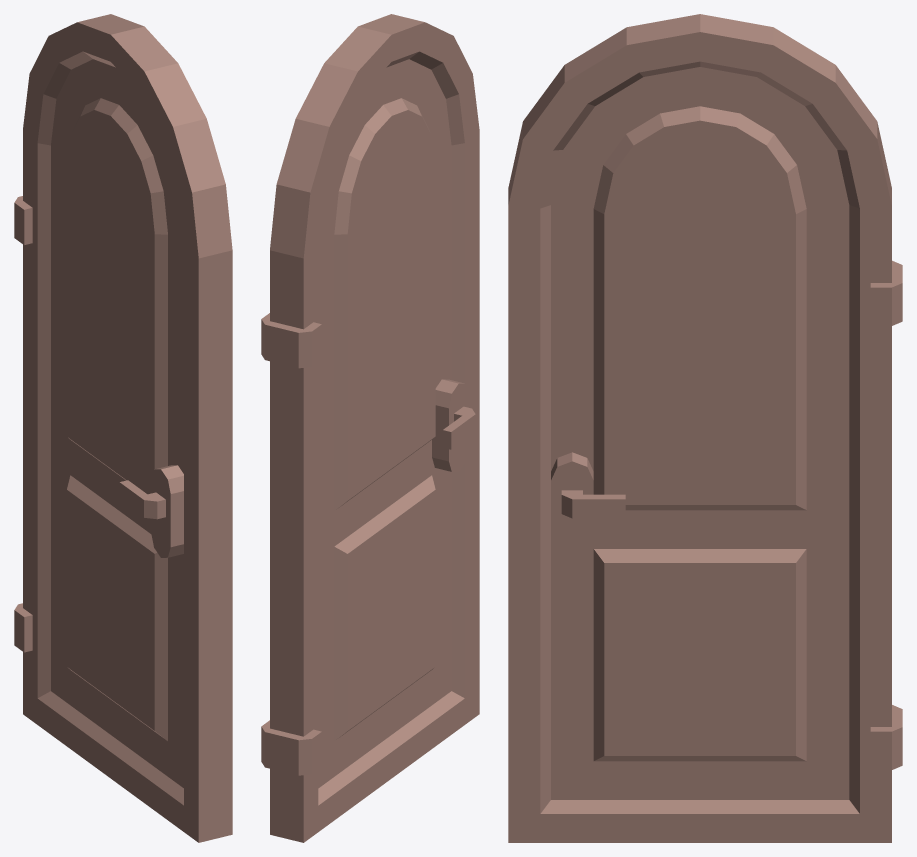
File: door-rotate-round-c.obj
3 views of the same model, side by side, from view 1: azimuth 30°, elevation 25°; view 2: azimuth 150°, elevation 25°; view 3: azimuth 270°, elevation 25° (orthographic). The views are drawn at different scales.
Size of the model in its own units: 0.25 by 2.1 by 0.925.
